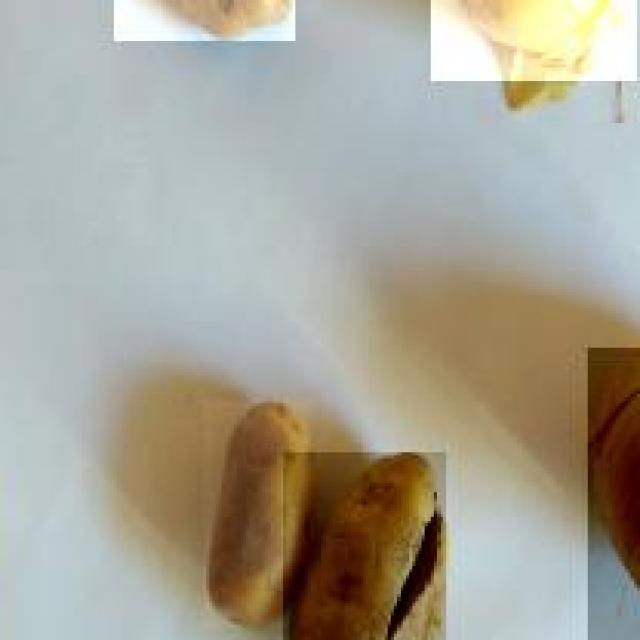onion: (431, 0, 640, 80), (587, 344, 640, 640)
potato: (283, 449, 446, 640), (202, 397, 316, 628)
